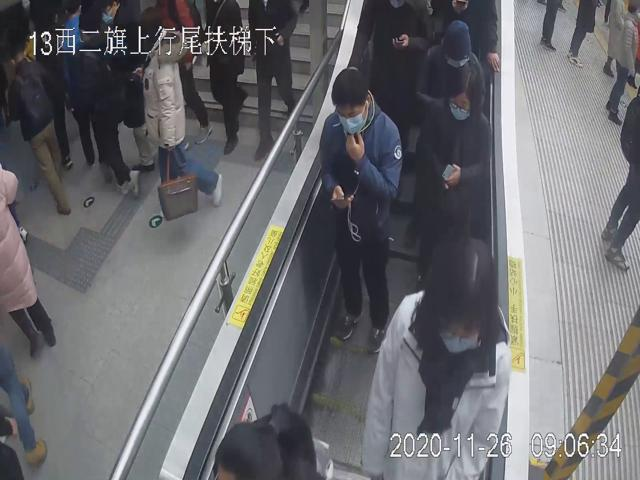person: (360, 228, 510, 480), (319, 69, 403, 357), (416, 64, 491, 266), (414, 20, 485, 133)
